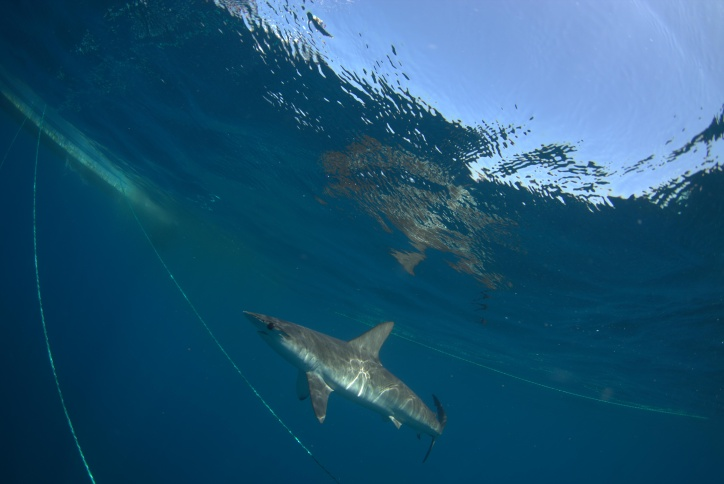Hammer: (235, 288, 455, 465)
